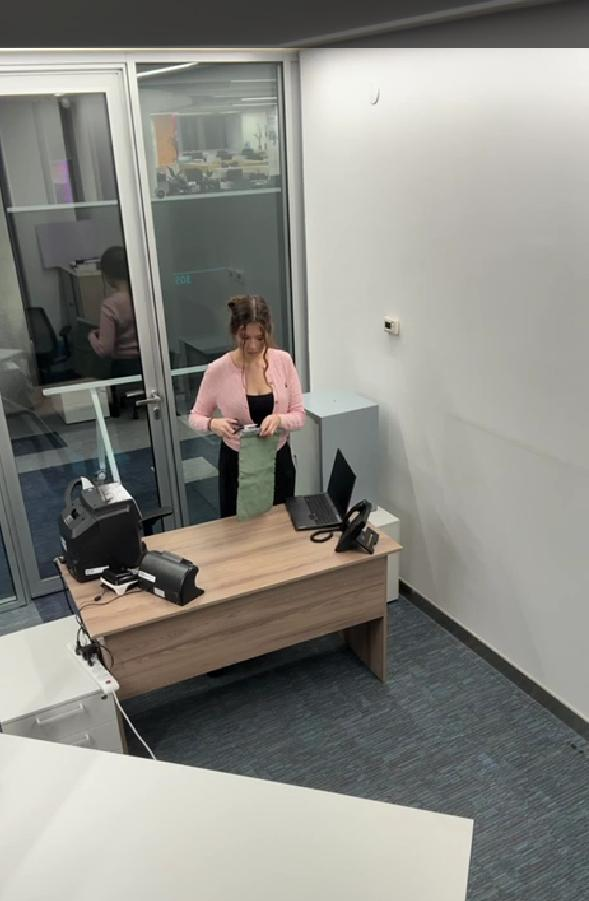cash-in-transit bag: (216, 414, 287, 525)
counter: (54, 476, 151, 577)
uv_lamp: (138, 542, 207, 601)
